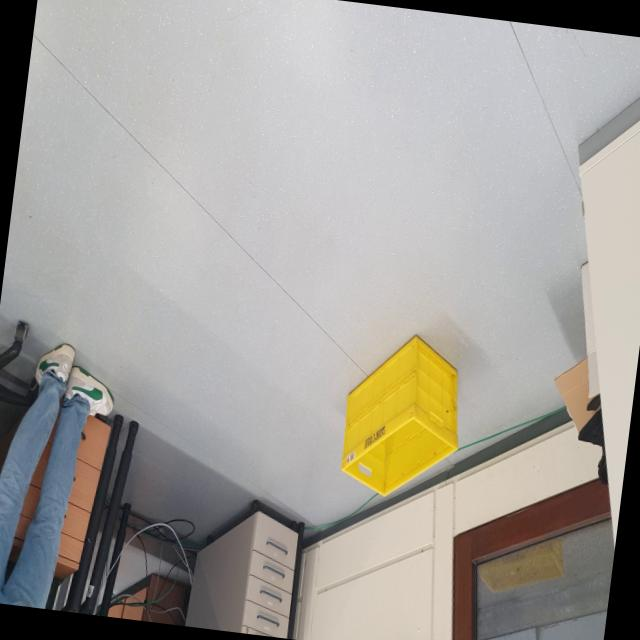box: (328, 324, 477, 513)
